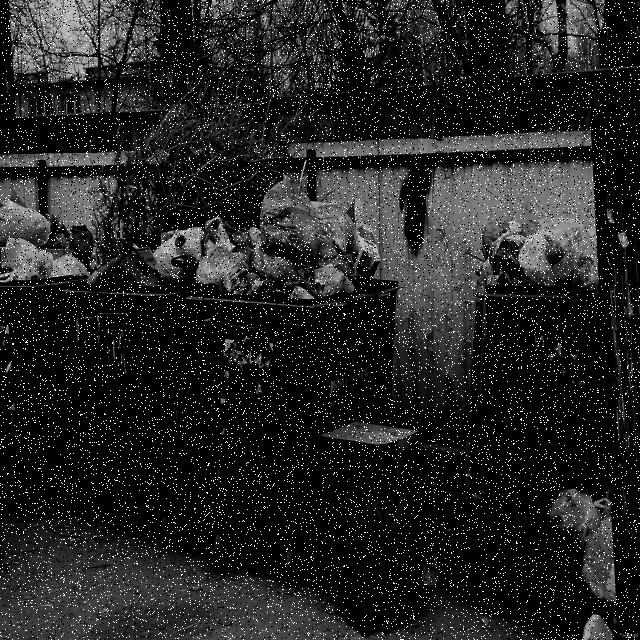Trashcan: (173, 180, 425, 581), (456, 192, 632, 552), (78, 219, 209, 542), (0, 195, 96, 525)
